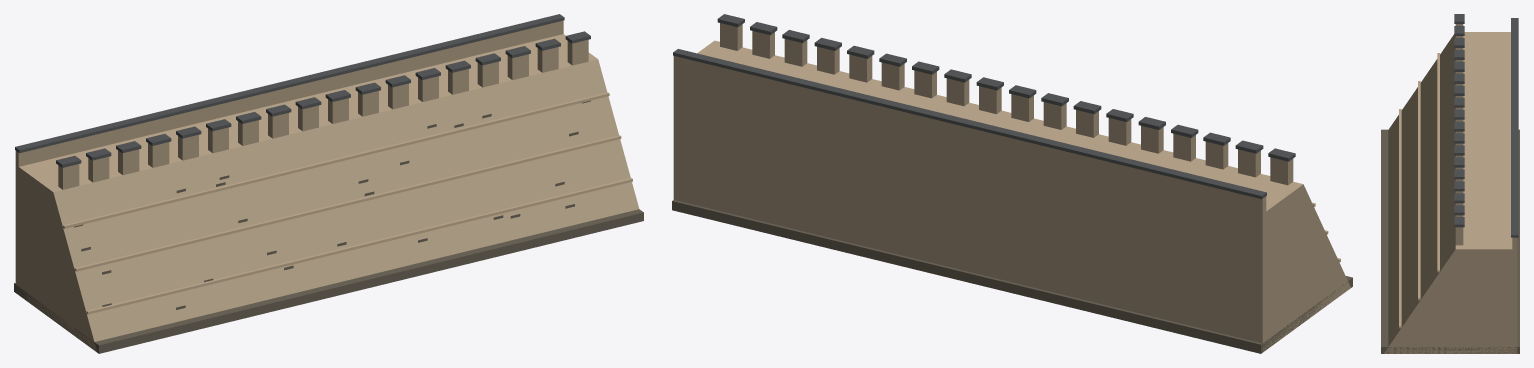
File: J05_far.glb
3 views of the same model, side by side, from view 1: azimuth 30°, elevation 25°; view 2: azimuth 150°, elevation 25°; view 3: azimuth 270°, elevation 25° (orthographic). The views are drawn at different scales.
Visible parts, largest first — view 1: J05_far; view 2: J05_far; view 3: J05_far.
Part boxes in pixels (left/top/right/bottom): J05_far: left=14, top=14, right=643, bottom=353; J05_far: left=672, top=14, right=1352, bottom=353; J05_far: left=1381, top=14, right=1519, bottom=353.
Size of the model in its own units: 40 by 10.82 by 10.8.
